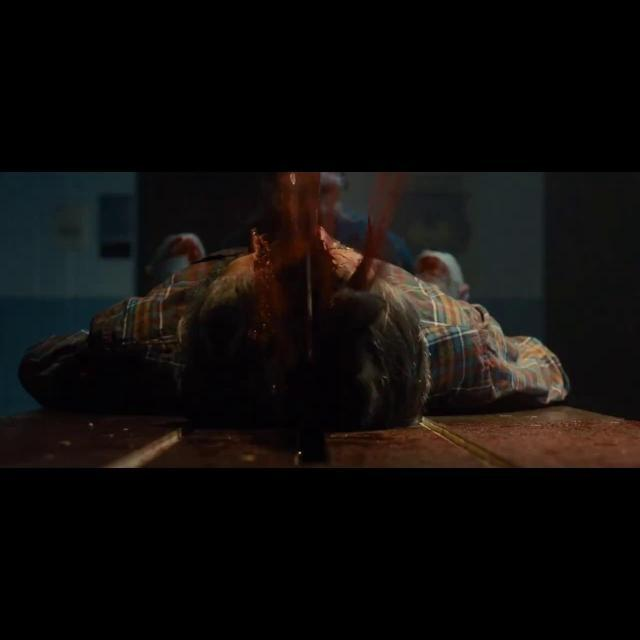blood: (255, 174, 338, 336), (348, 172, 406, 291), (158, 234, 204, 263), (419, 255, 450, 282), (322, 252, 333, 295)
